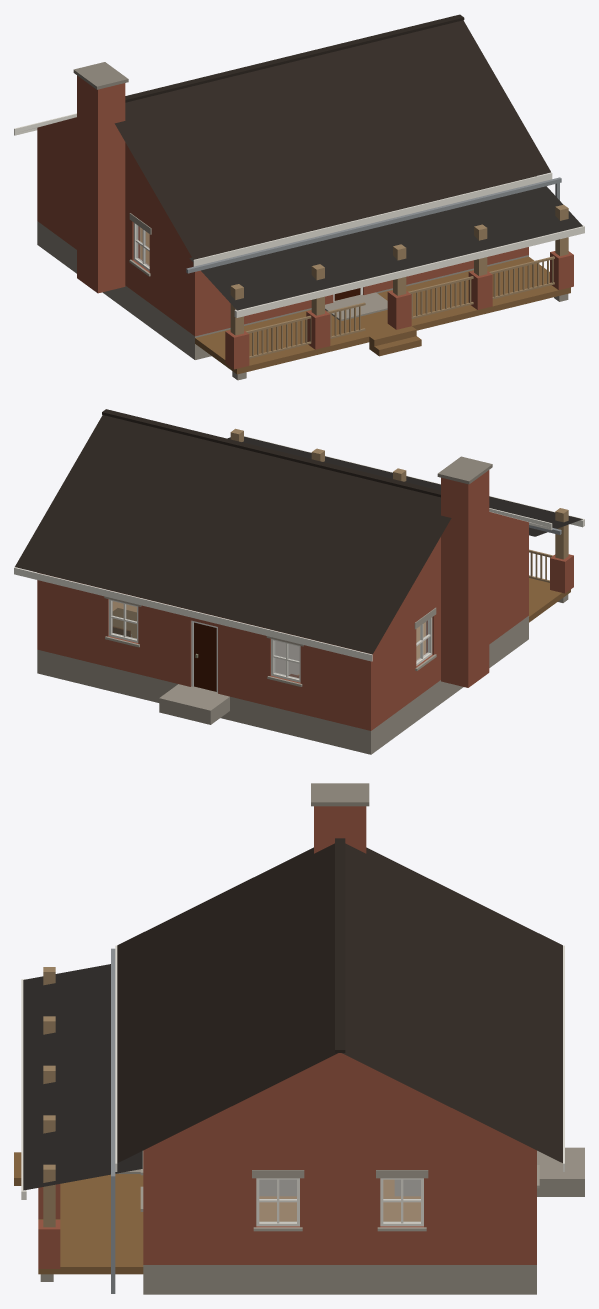
File: bungalow_c.glb
The picture shows the model from 3 angles, top to bottom: view 1: azimuth 30°, elevation 25°; view 2: azimuth 150°, elevation 25°; view 3: azimuth 270°, elevation 25°; orthographic projection. The views are drawn at different scales.
Parts seen in each view (by area): view 1: LOD0; view 2: LOD0, LEAF1, FURN; view 3: LOD0.
Part boxes in pixels (x1,y1,x2,y2): LOD0: [14, 14, 584, 380]; LOD0: [14, 409, 584, 754]; LEAF1: [194, 622, 216, 691]; FURN: [112, 608, 299, 678]; LOD0: [14, 783, 584, 1294].
Size of what is drawn, in the model's own units: 12.68 by 7.31 by 13.06.
